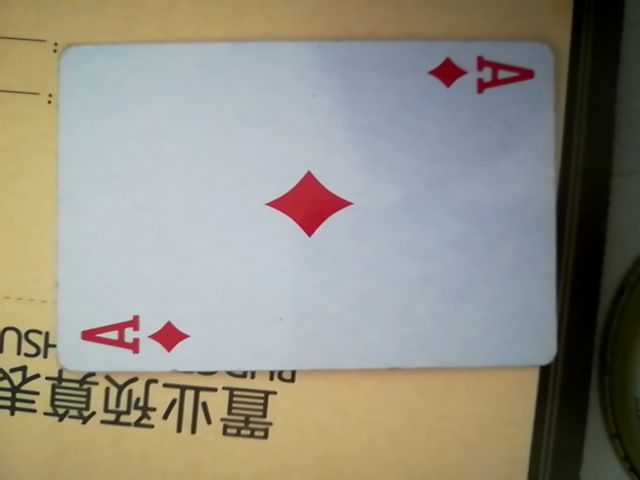fk a: (53, 41, 565, 381)
